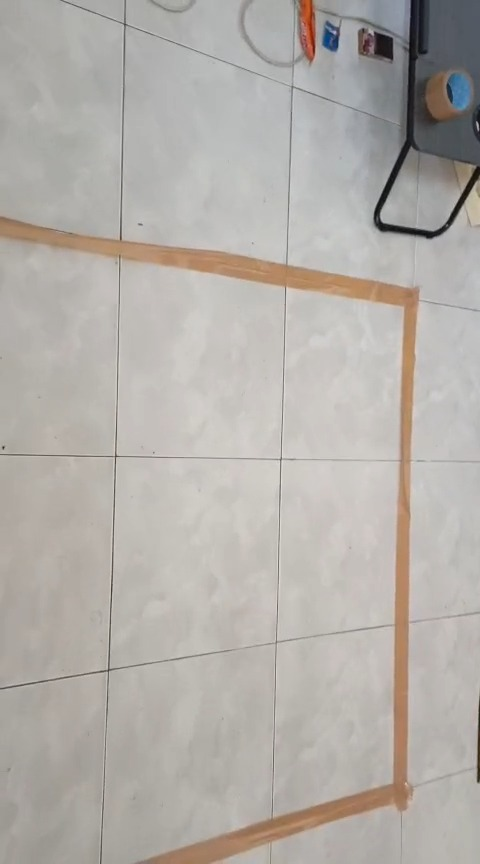floor marking: (0, 217, 417, 863)
